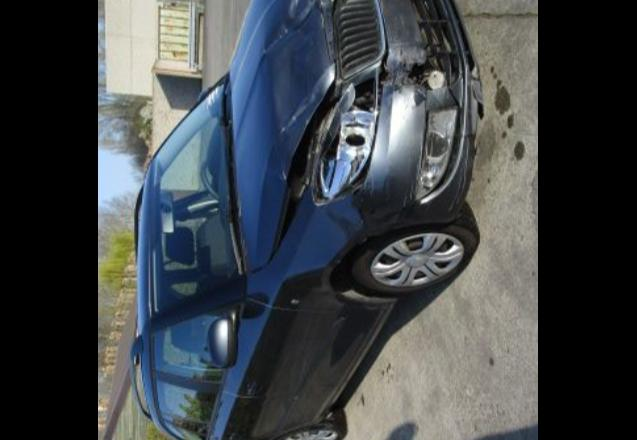Broken part: (226, 0, 338, 272), (364, 0, 478, 234), (274, 78, 335, 254), (312, 61, 384, 204), (335, 0, 384, 78), (318, 0, 335, 61)
Dent: (268, 0, 335, 142), (280, 264, 334, 306), (328, 200, 362, 224)
Scratch: (362, 158, 376, 196), (332, 316, 350, 328), (280, 164, 288, 180)
